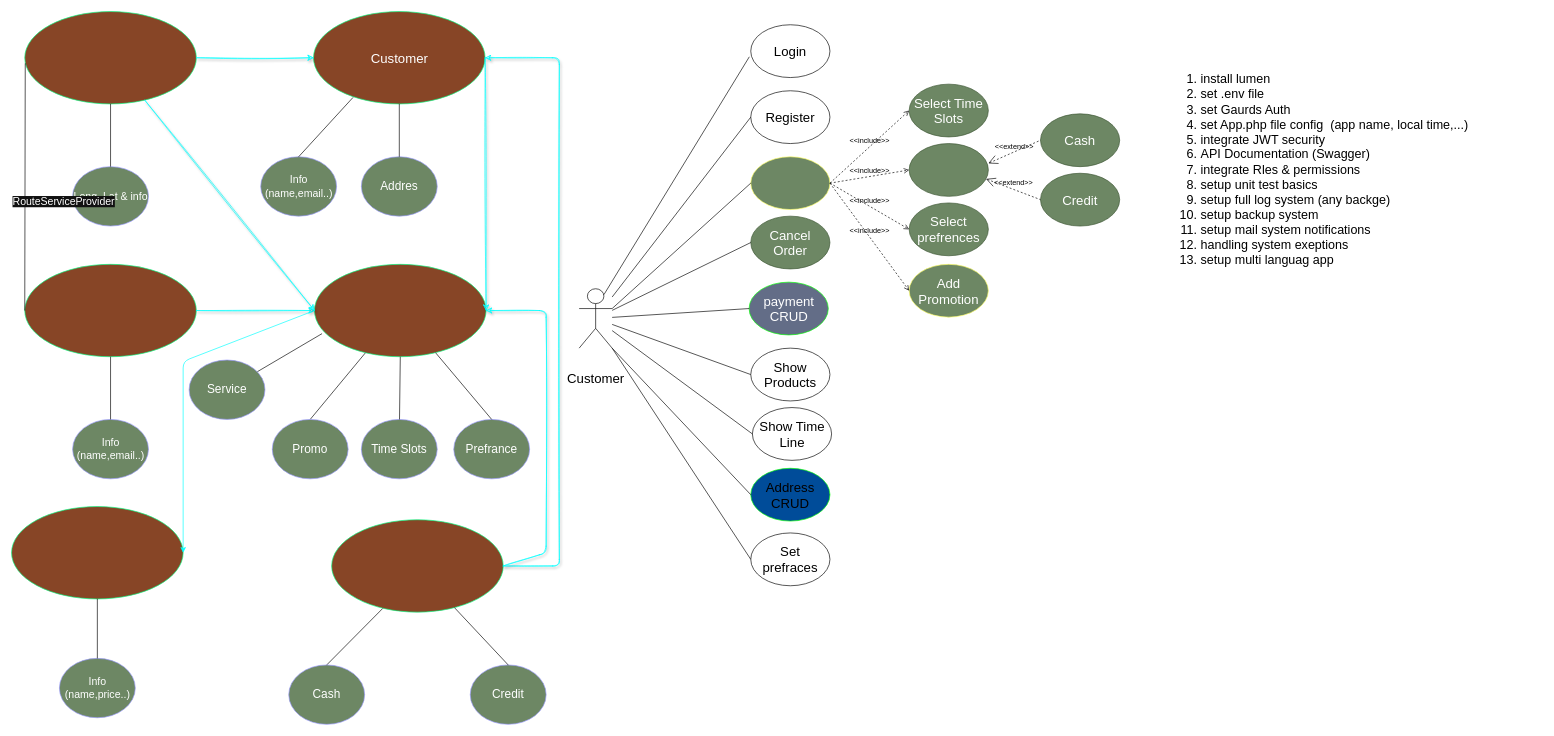
This 1554x736 diagram has some shape labels left out. Each missing label, with the centre of its shape:
"Location" belongs at point (110, 57).
"Order" belongs at point (400, 310).
"Payment" belongs at point (417, 565).
"Place Order" belongs at point (790, 183).
"Product" belongs at point (97, 552).
"Select Payment" belongs at point (948, 169).
"Vendor" belongs at point (110, 310).
